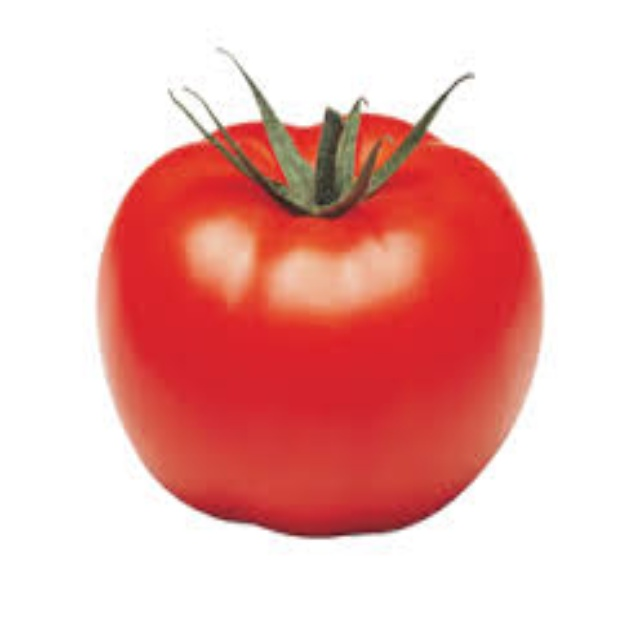tomato: (86, 60, 532, 538)
